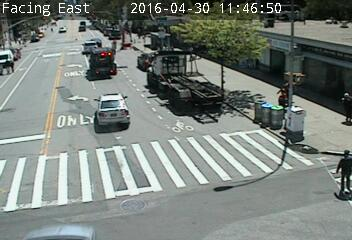neg: (178, 69, 202, 101), (229, 36, 249, 63), (140, 71, 159, 96), (134, 129, 152, 154), (51, 54, 69, 78), (96, 71, 114, 95), (116, 43, 128, 59)
pos: (325, 142, 351, 199), (329, 85, 351, 130), (273, 78, 296, 109), (1, 56, 15, 76)
